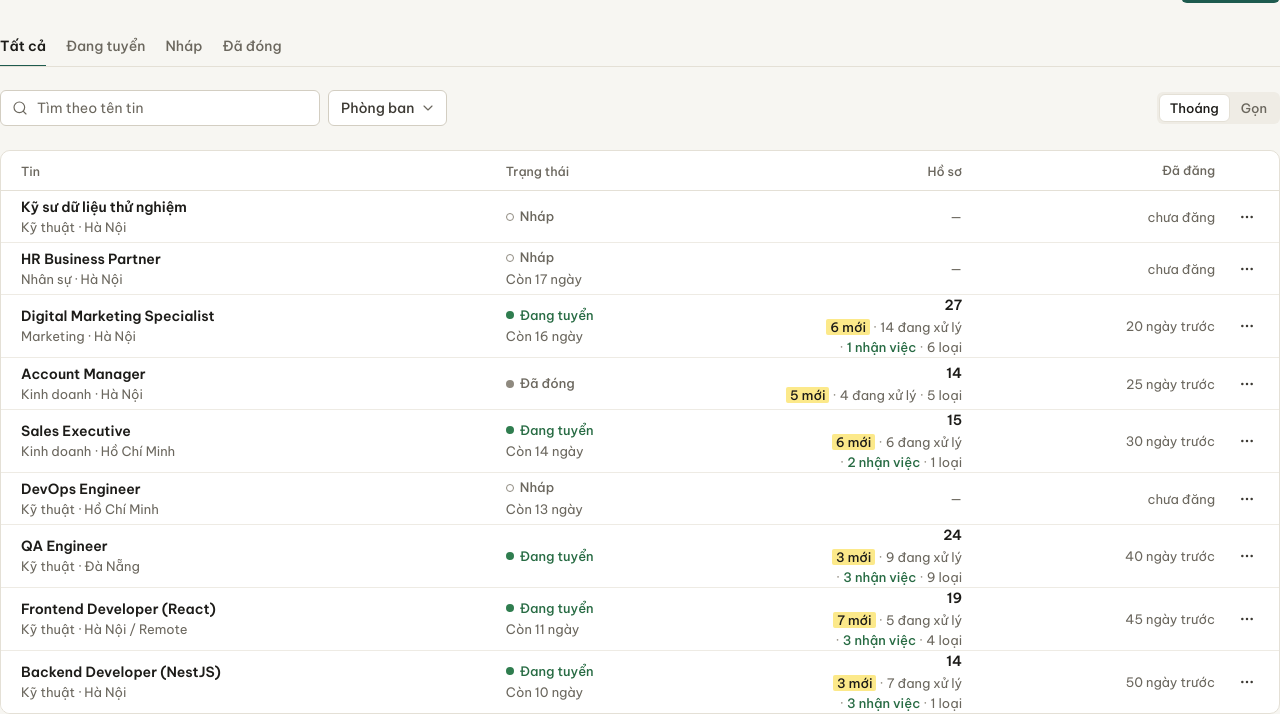
Test: detail dialog › opens each row-menu item as a tab of the job popup instead of a new page
(page scrolled)
Click the button named "Thao tác với Backend Developer (NestJS)" at [1247, 682], box [1231,666,1263,698]
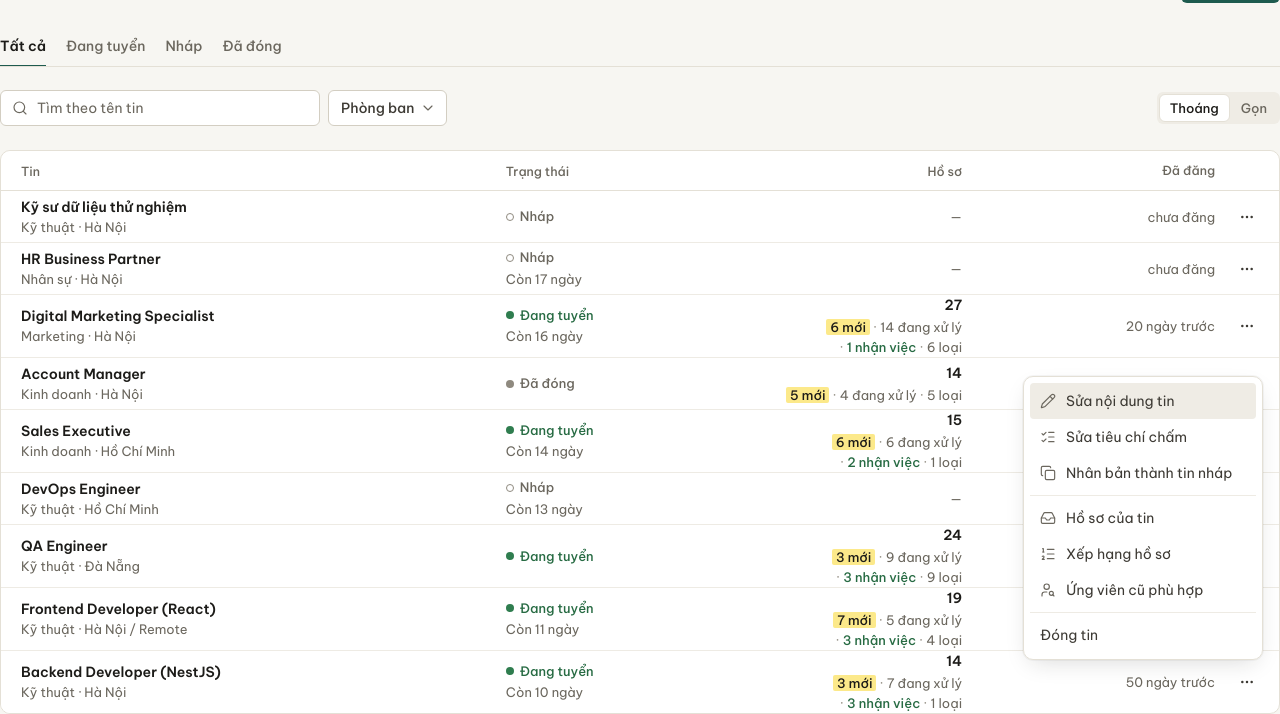
Click the menu item "Hồ sơ của tin" at [1097, 518], box [1040,509,1154,527]
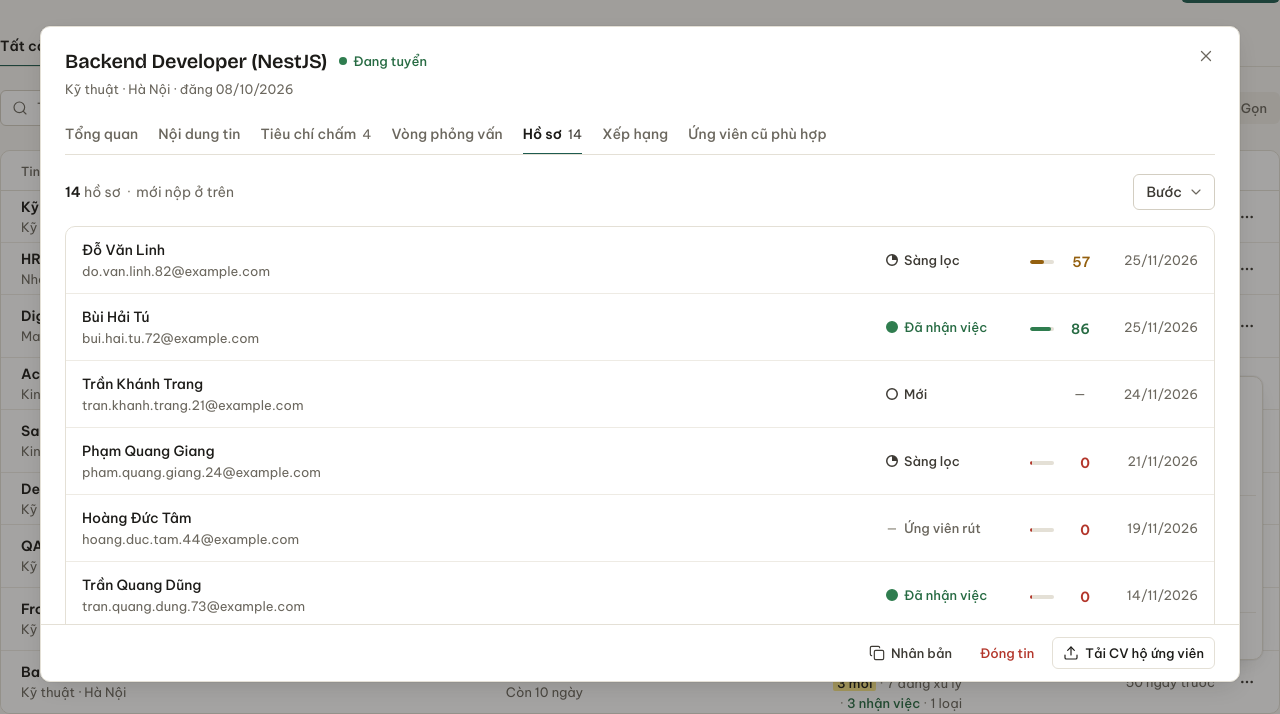
Result: the tab "Hồ sơ 14" is shown at [523,115,582,155]
